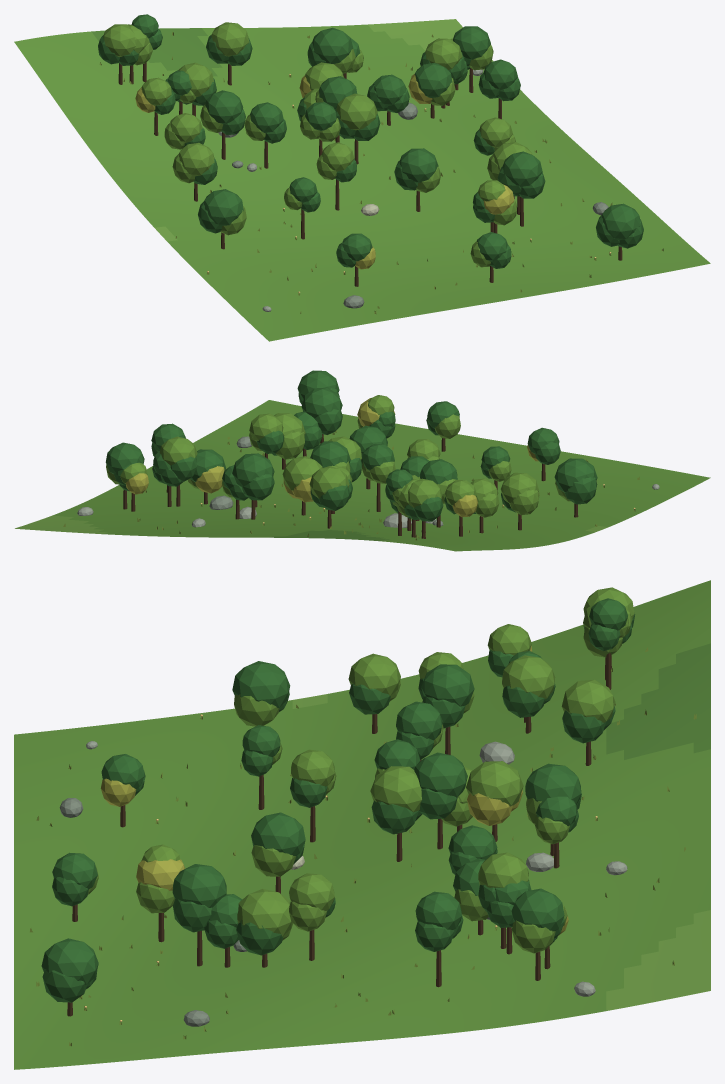
File: Chunk_X-2_Y0_Z0.fbx
3 views of the same model, one above another, from view 1: azimuth 30°, elevation 25°; view 2: azimuth 150°, elevation 25°; view 3: azimuth 270°, elevation 25° (orthographic). The views are drawn at different scales.
Visible parts, largest first — view 1: Terrain.010, Canopies.010, Trunks.010, Rocks.010, GroundCover.010; view 2: Terrain.010, Canopies.010, Trunks.010, Rocks.010, GroundCover.010; view 3: Terrain.010, Canopies.010, Trunks.010, Rocks.010, GroundCover.010.
Boxes of the visible parts, left/top/right/bottom form: Terrain.010: left=14, top=19, right=710, bottom=341; Canopies.010: left=98, top=14, right=643, bottom=269; Trunks.010: left=118, top=62, right=622, bottom=286; Rocks.010: left=218, top=69, right=608, bottom=311; GroundCover.010: left=99, top=32, right=663, bottom=313; Terrain.010: left=15, top=400, right=710, bottom=551; Canopies.010: left=105, top=370, right=597, bottom=521; Trunks.010: left=123, top=434, right=578, bottom=538; Rocks.010: left=77, top=436, right=659, bottom=527; GroundCover.010: left=63, top=430, right=639, bottom=540; Terrain.010: left=14, top=580, right=710, bottom=1069; Canopies.010: left=41, top=587, right=635, bottom=1002; Trunks.010: left=67, top=653, right=611, bottom=1016; Rocks.010: left=59, top=741, right=627, bottom=1026; GroundCover.010: left=30, top=647, right=696, bottom=1046.
Bounding box in the file's own units: 100 × 37.58 × 100.
